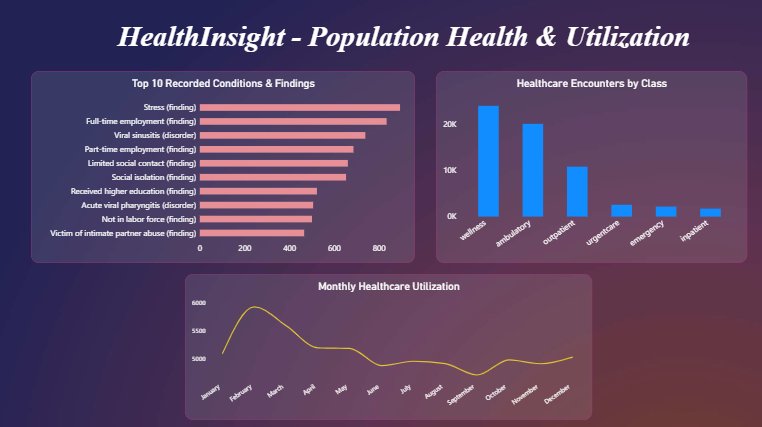

This screenshot's page, from the dashboard's own definition file:
{"tool":"powerbi","page":{"name":"Population Health","canvas":[1920,1080],"ordinal":2},"visuals":[{"type":"textbox","box":[225,55,1585,110],"z":0},{"type":"clusteredBarChart","title":"Top 10 Recorded Conditions & Findings","fields":{"Category":["04_query_4_most_frequently_recorded_conditions.condition_name"],"Y":["Sum(04_query_4_most_frequently_recorded_conditions.unique_patients)"]},"box":[85,182.5,960,480],"z":1000},{"type":"lineChart","title":"Monthly Healthcare Utilization","fields":{"Category":["02_query_2_monthly_healthcare_utilization.month.Variation.Date Hierarchy.Month"],"Y":["Sum(02_query_2_monthly_healthcare_utilization.total_encounters)"]},"box":[470,690,1017.5,365],"z":2000},{"type":"clusteredColumnChart","title":"Healthcare Encounters by Class","fields":{"Category":["03_query_3_encounter_costs_by_type.encounterclass"],"Y":["Sum(03_query_3_encounter_costs_by_type.total_encounters)"]},"box":[1097.5,182.5,777.5,480],"z":3000}]}

Visuals, with their boxes in screenshot pixels (x1, y1, x2, y2), scaled from the page's 1920x1080 canvas onto the 762x427 screenshot:
textbox: box(89, 22, 718, 65)
"Top 10 Recorded Conditions & Findings" clusteredBarChart: box(34, 72, 415, 262)
"Monthly Healthcare Utilization" lineChart: box(187, 273, 590, 417)
"Healthcare Encounters by Class" clusteredColumnChart: box(436, 72, 744, 262)
